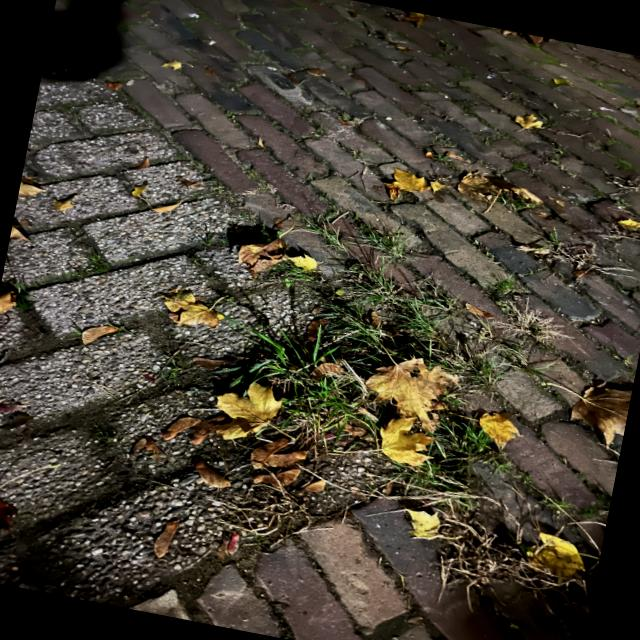leaves: (357, 356, 456, 474), (200, 380, 282, 440), (526, 530, 602, 588), (570, 384, 632, 442), (244, 442, 306, 494), (246, 240, 316, 280), (164, 295, 226, 336), (464, 179, 538, 208), (144, 515, 183, 553), (380, 172, 430, 201), (143, 191, 188, 220), (609, 217, 640, 258), (81, 318, 110, 352)
pavement: (0, 0, 639, 639)
weed: (242, 207, 574, 592)
